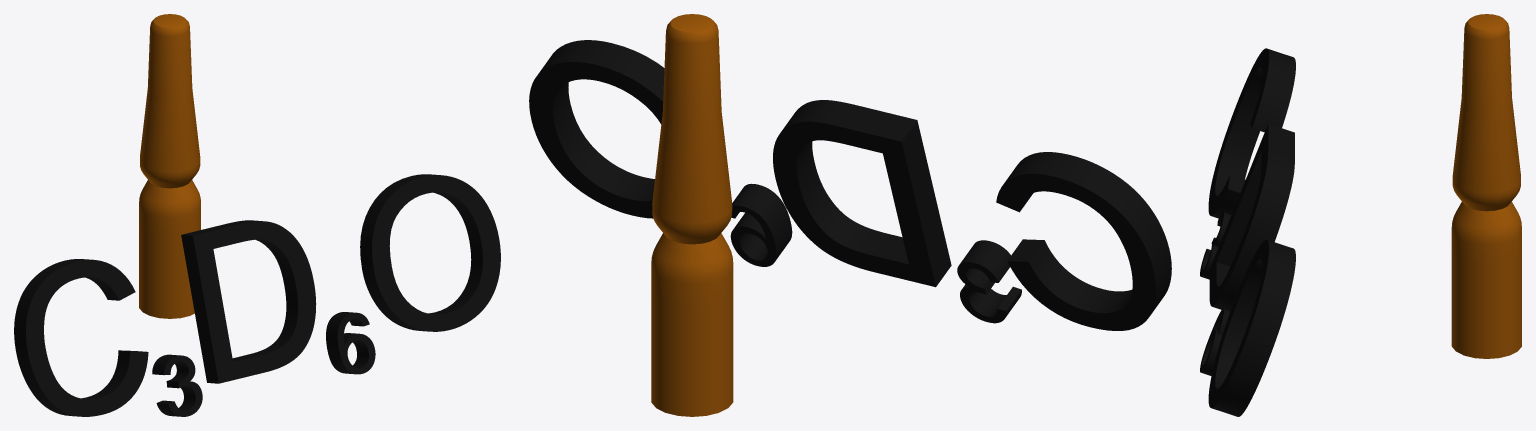
3 views of the same model, side by side, from view 1: azimuth 30°, elevation 25°; view 2: azimuth 150°, elevation 25°; view 3: azimuth 270°, elevation 25° (orthographic). The views are drawn at different scales.
Visible parts, largest first — view 1: C3D6O; view 2: C3D6O; view 3: C3D6O.
Part boxes in pixels (x1,y1,x2,y2): C3D6O: (14, 14, 500, 416); C3D6O: (529, 14, 1171, 416); C3D6O: (1200, 14, 1521, 416).
Bounding box in the file's own units: 0.1727 × 0.1 × 0.0903.
